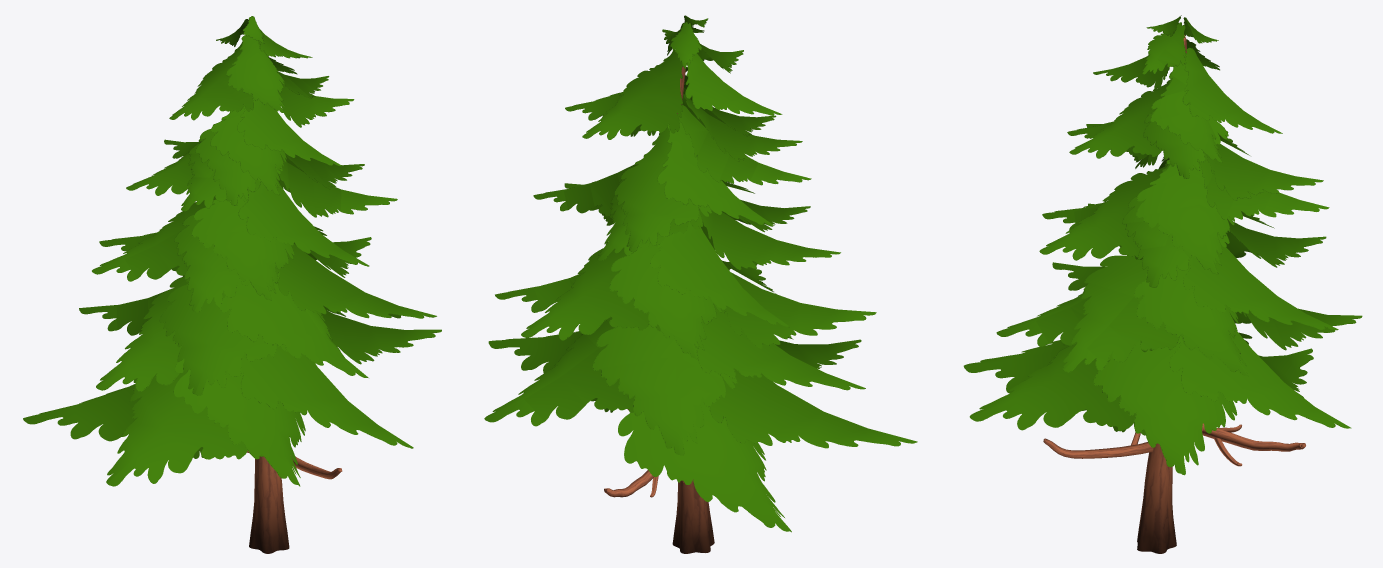
File: Pine_2.gltf
3 renders of one model, left to right at view 1: azimuth 30°, elevation 25°; view 2: azimuth 150°, elevation 25°; view 3: azimuth 270°, elevation 25°, orthographic. The views are drawn at different scales.
Parts seen in each view (by area): view 1: Pine_2; view 2: Pine_2; view 3: Pine_2.
Part boxes in pixels (left/top/right/bottom): Pine_2: left=23, top=16, right=441, bottom=553; Pine_2: left=484, top=15, right=917, bottom=553; Pine_2: left=963, top=15, right=1362, bottom=553.
Bounding box in the file's own units: 5.73 × 7.38 × 5.22.
2 materials, 2 textured.
